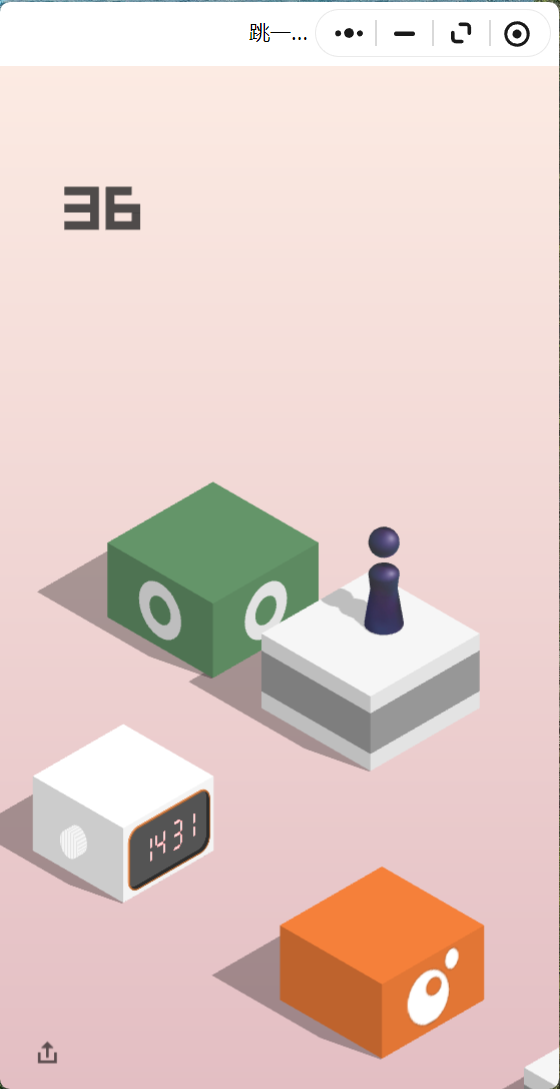piece: (368, 526, 399, 631)
target: (108, 481, 318, 602)
